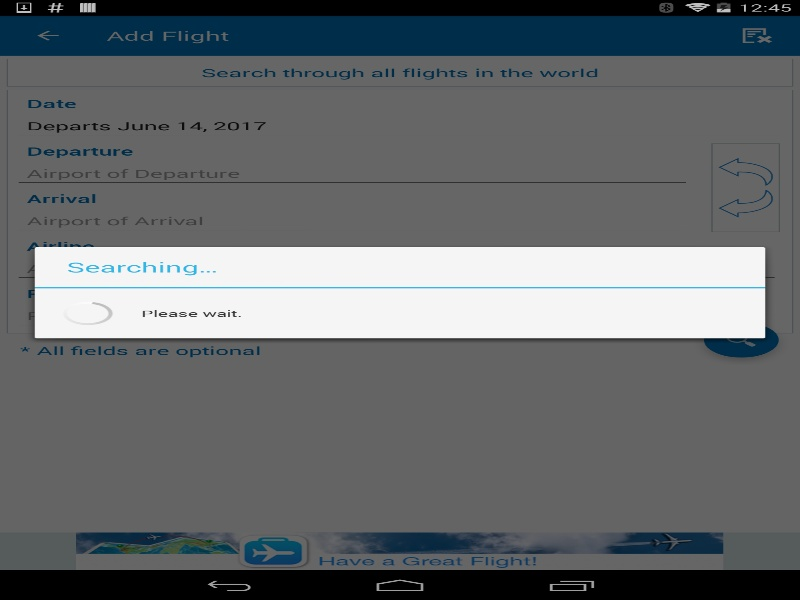Button: (688, 315, 794, 364), (10, 15, 85, 55)
Input: (13, 114, 786, 140), (13, 256, 780, 282), (13, 304, 780, 330), (13, 161, 691, 187), (13, 209, 691, 235)
